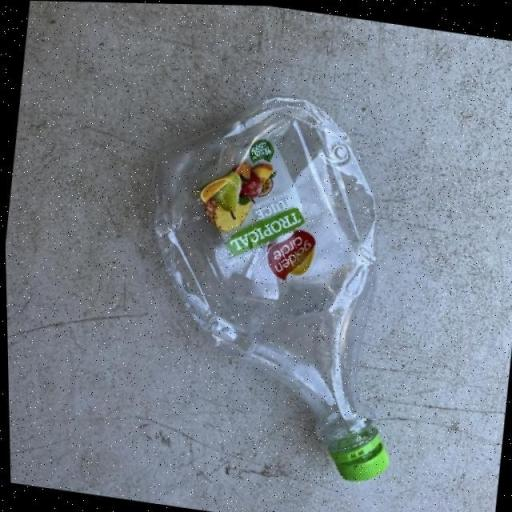plastic: (116, 75, 429, 485)
